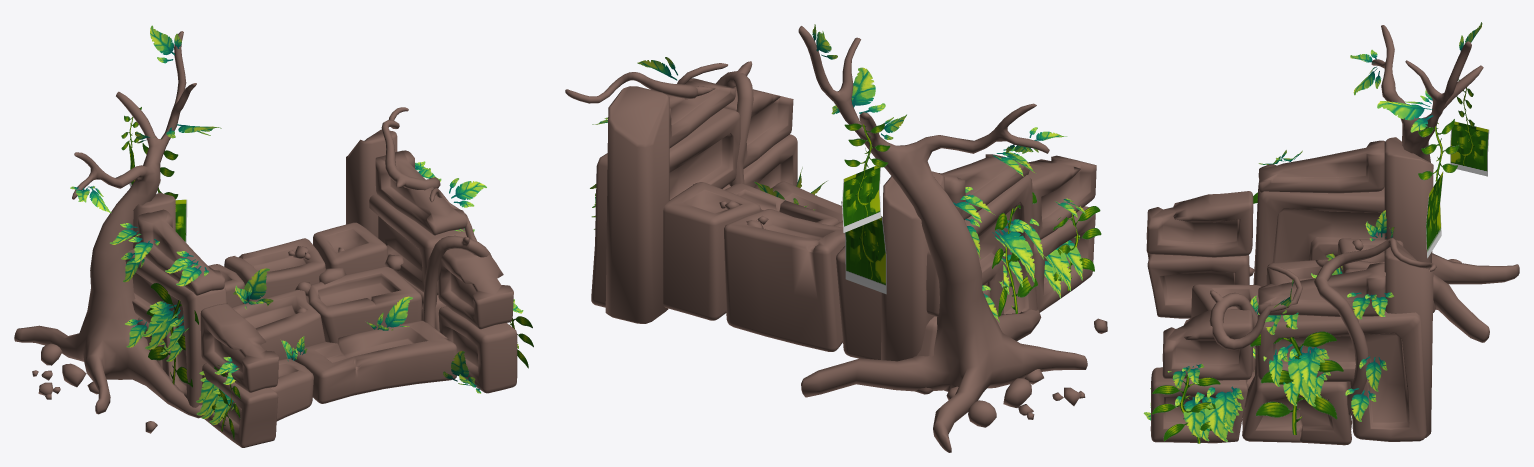
Rendered from SM_HalfStairs.fbx.
3 renders of one model, left to right at view 1: azimuth 30°, elevation 25°; view 2: azimuth 150°, elevation 25°; view 3: azimuth 270°, elevation 25°, orthographic. The views are drawn at different scales.
Parts seen in each view (by area): view 1: HalfStairsMesh; view 2: HalfStairsMesh; view 3: HalfStairsMesh.
Part boxes in pixels (x1,y1,x2,y2): HalfStairsMesh: [14, 25, 533, 447]; HalfStairsMesh: [565, 24, 1107, 452]; HalfStairsMesh: [1143, 22, 1519, 445].
Bounding box in the file's own units: 867 × 630 × 668.
